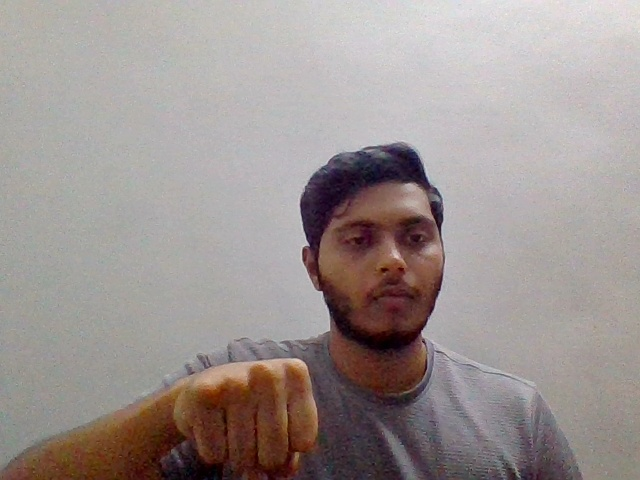Yes: (166, 354, 324, 480)
